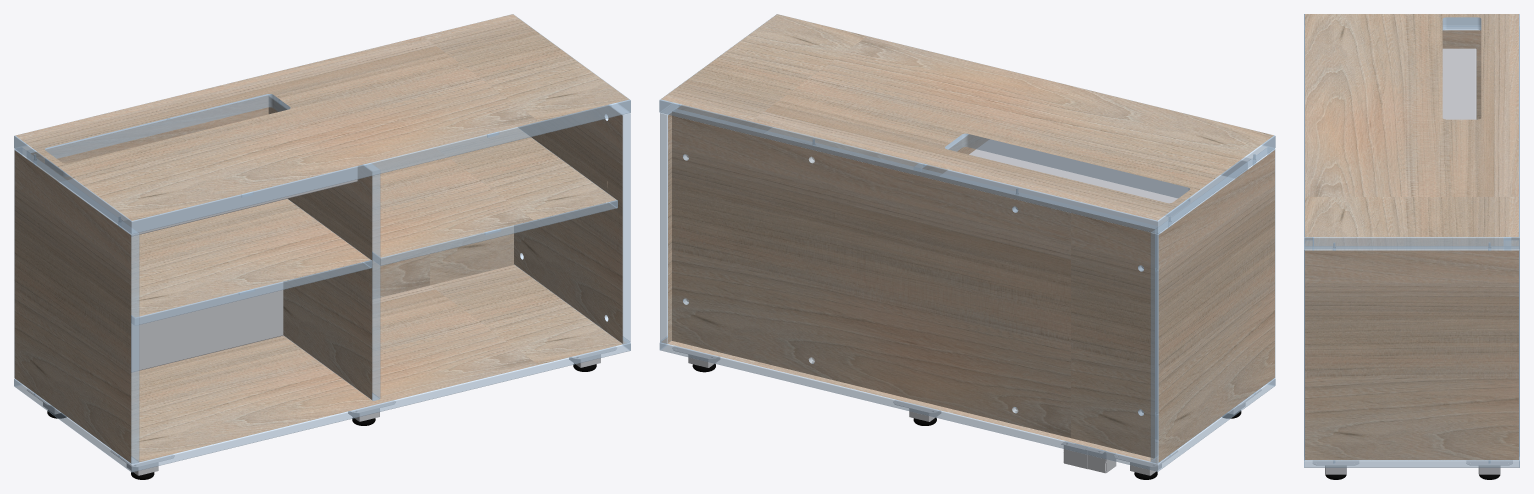
The model's file is LKAL190000_DER_120.glb.
3 renders of one model, left to right at view 1: azimuth 30°, elevation 25°; view 2: azimuth 150°, elevation 25°; view 3: azimuth 270°, elevation 25°, orthographic. The views are drawn at different scales.
Parts seen in each view (by area): view 1: 4 (×4), 46; view 2: 4 (×4), 46, 51; view 3: 4 (×4), 46, 45, 48.
Part boxes in pixels (left/top/right/bottom): 4 (×4): left=14, top=14, right=630, bottom=472; 46: left=59, top=166, right=357, bottom=372; 4 (×4): left=659, top=14, right=1275, bottom=471; 46: left=940, top=139, right=1250, bottom=441; 51: left=1061, top=441, right=1116, bottom=473; 4 (×4): left=1304, top=14, right=1519, bottom=467; 46: left=1442, top=48, right=1476, bottom=119; 45: left=1466, top=460, right=1512, bottom=465; 48: left=1313, top=460, right=1358, bottom=465.
Size of the model in its own units: 1.23 by 0.643 by 0.5001.
Materials: 4 (1 with a texture image).
